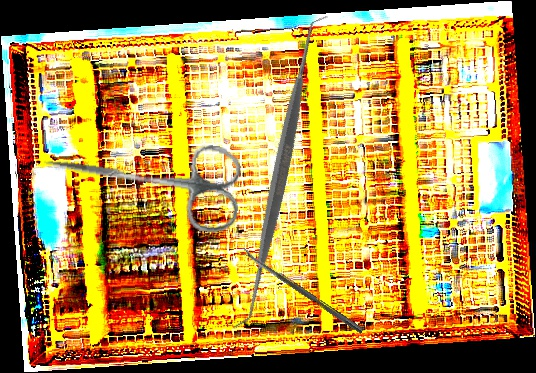Iris Scissors: (37, 122, 247, 236)
Spatula Surgical: (123, 14, 437, 330)
Surgical Spoon: (240, 247, 365, 334)
